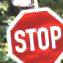Stop sign: (0, 0, 62, 62)
